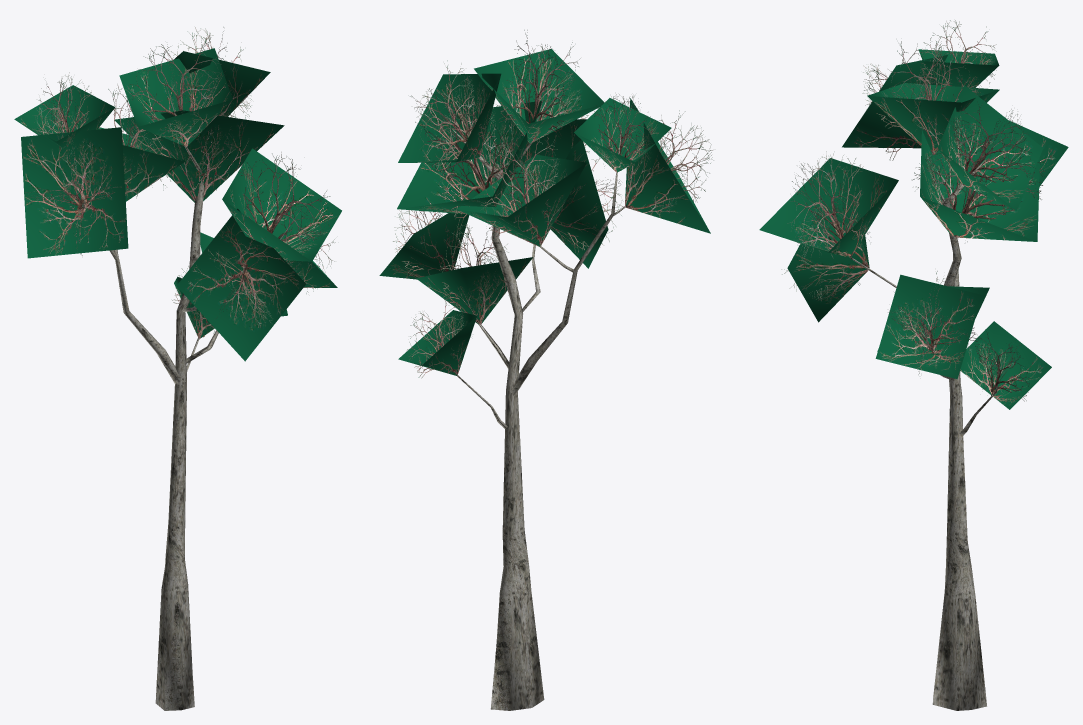
Rendered from decd_whitebirchtreebranches_a1_l0.fbx.
3 views of the same model, side by side, from view 1: azimuth 30°, elevation 25°; view 2: azimuth 150°, elevation 25°; view 3: azimuth 270°, elevation 25° (orthographic). The views are drawn at different scales.
Visible parts, largest first — view 1: mesh_node; view 2: mesh_node; view 3: mesh_node.
Part boxes in pixels (box(x1,y1,x2,y2)): mesh_node: box(14, 27, 341, 710); mesh_node: box(379, 30, 713, 710); mesh_node: box(759, 20, 1068, 710).
Size of the model in its own units: 8.35 by 16.24 by 6.88.
